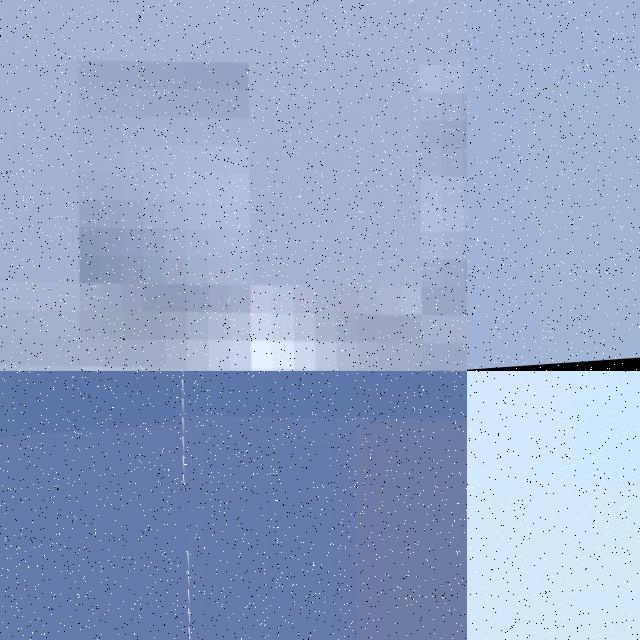drone: (0, 0, 467, 371), (153, 371, 467, 640), (467, 371, 640, 640)
